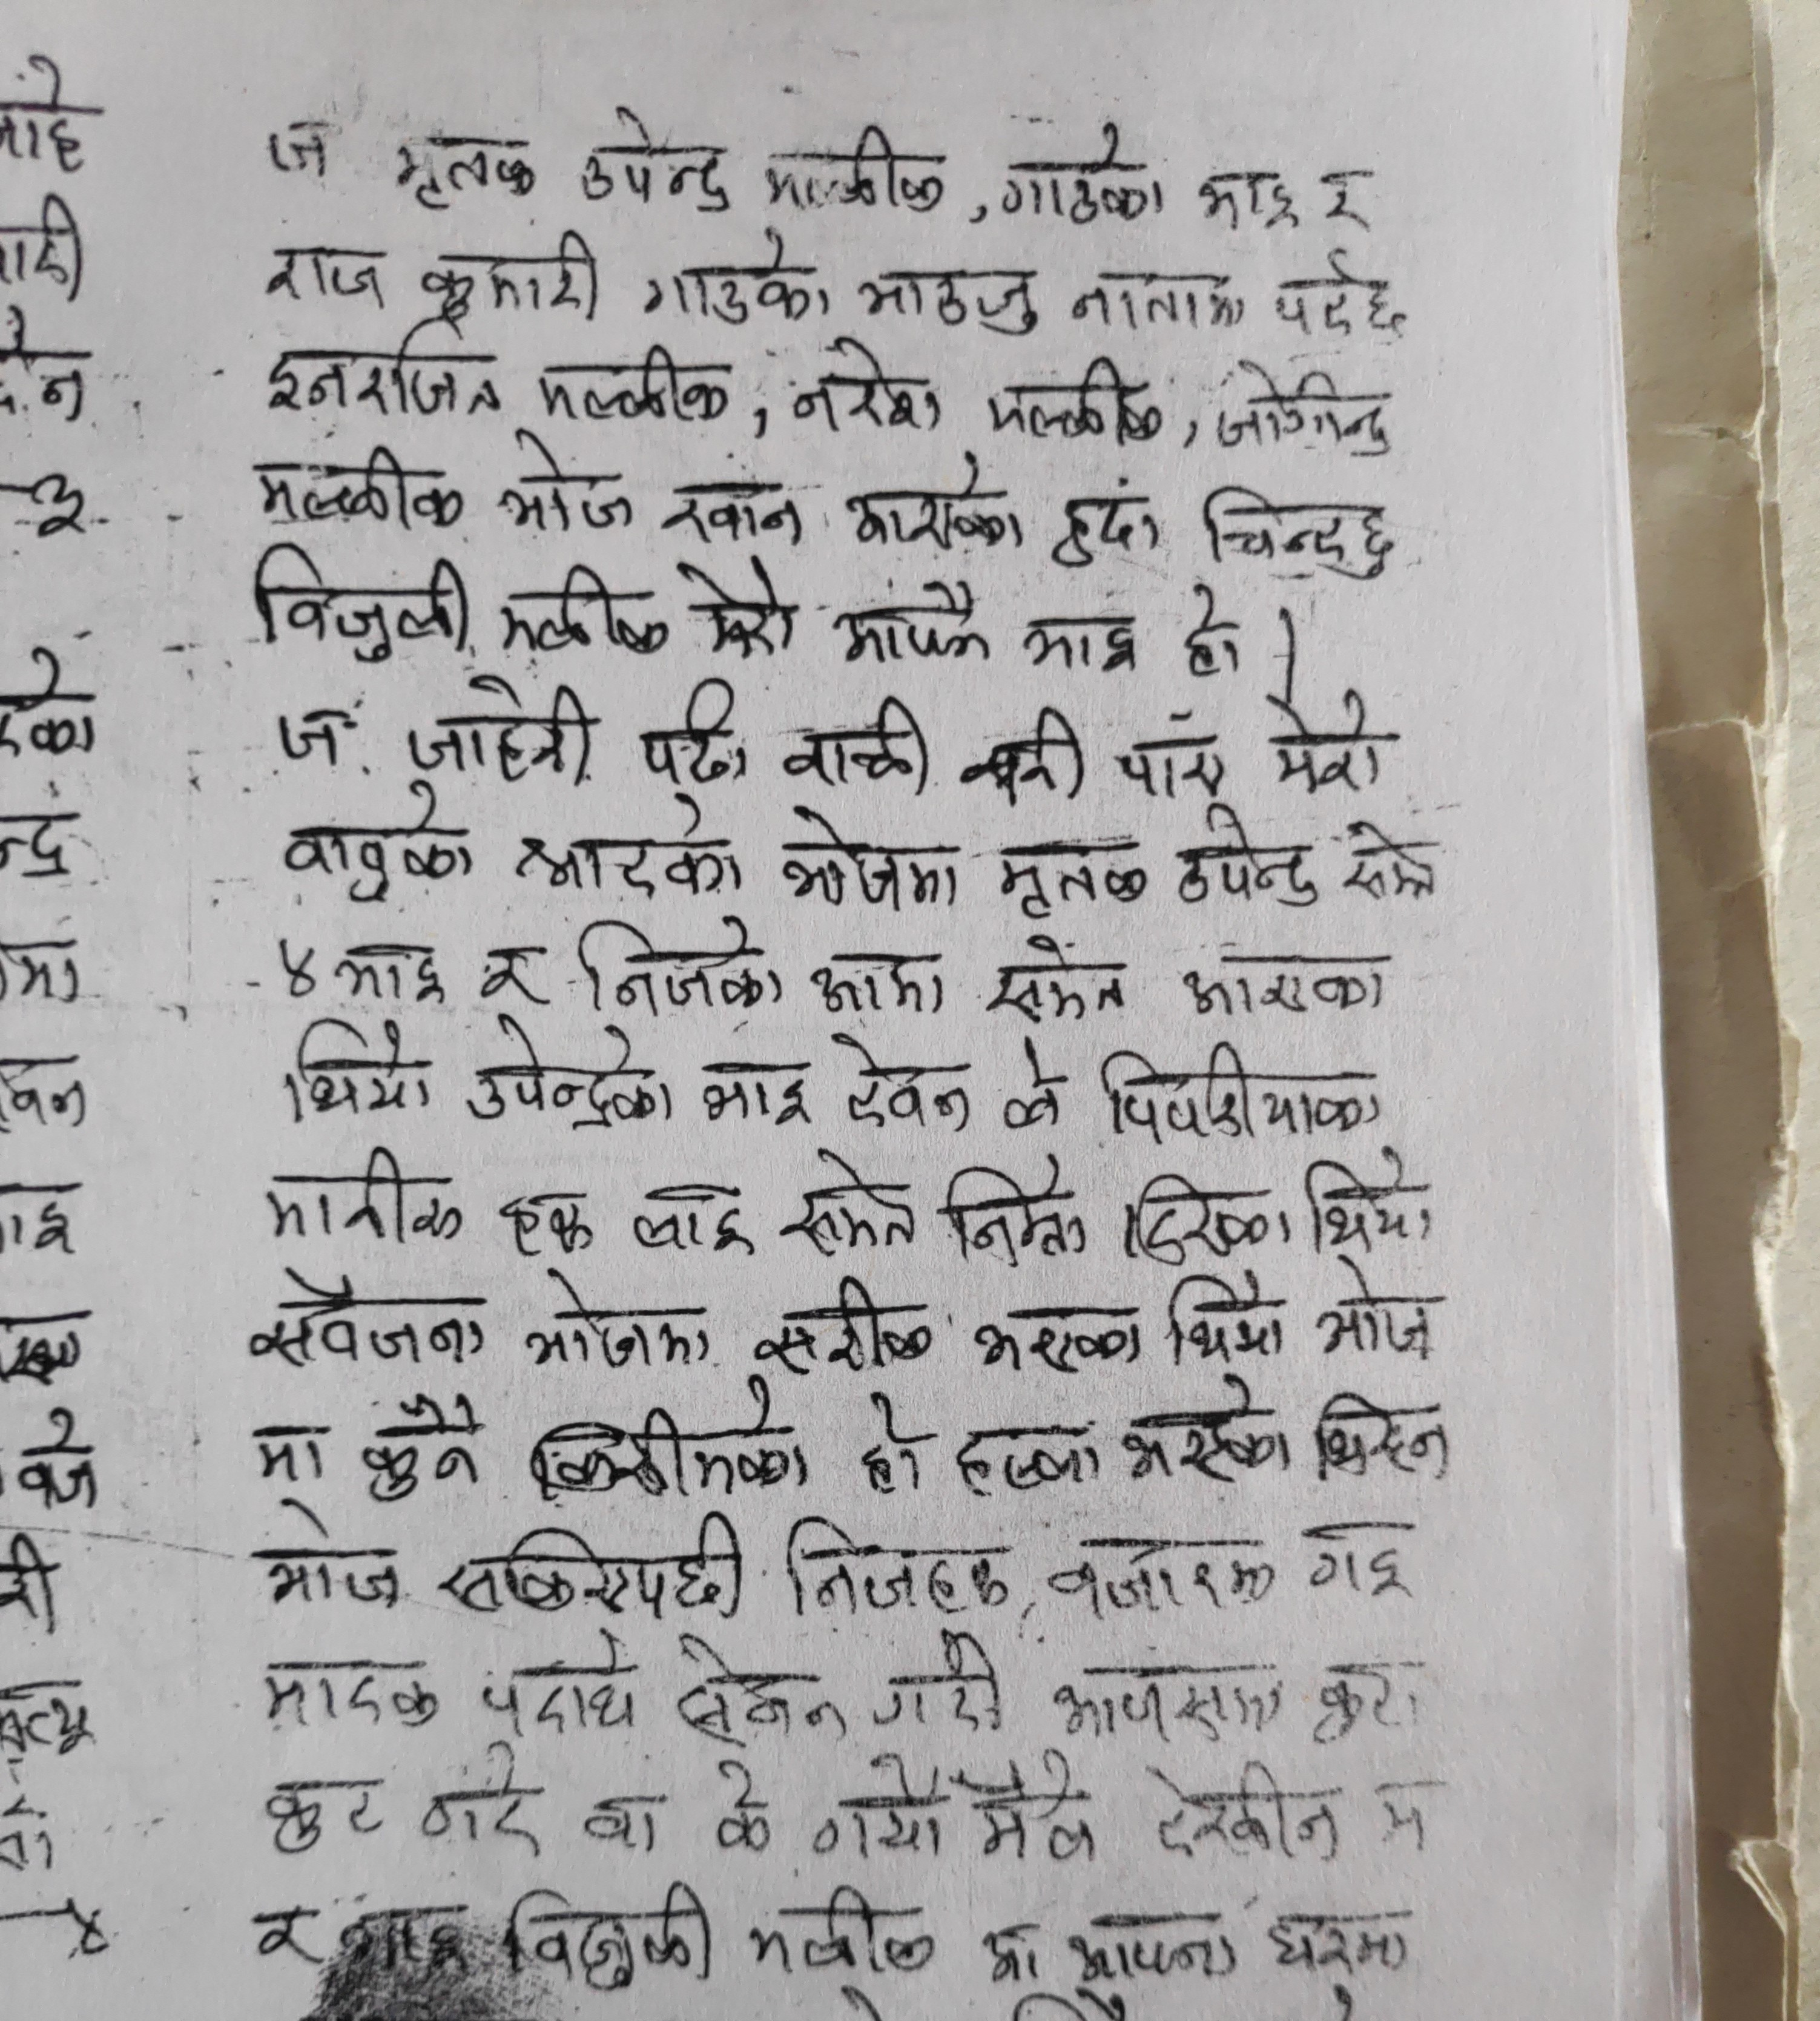text: (434, 1515, 754, 1620), (1087, 1044, 1391, 1146), (249, 538, 471, 670), (502, 1872, 720, 1996), (246, 1267, 494, 1373), (769, 1510, 1017, 1615), (559, 903, 787, 1016), (516, 798, 748, 909), (766, 789, 963, 919), (460, 1023, 682, 1137), (1137, 1754, 1346, 1873), (264, 327, 502, 425), (278, 789, 476, 907), (404, 670, 601, 782), (522, 1267, 711, 1381), (1052, 1655, 1289, 1743), (833, 453, 1033, 555), (668, 1631, 845, 1745), (1198, 485, 1400, 585), (573, 105, 743, 223), (1000, 123, 1174, 237), (745, 1276, 942, 1376), (260, 1149, 464, 1246), (1212, 357, 1398, 460), (1042, 1536, 1275, 1619), (249, 445, 469, 532), (1119, 1378, 1295, 1487), (638, 235, 843, 327), (531, 343, 736, 434), (745, 1887, 942, 1982), (762, 123, 957, 218), (480, 1620, 636, 1735), (494, 562, 669, 663), (242, 1501, 406, 1608), (1109, 1170, 1296, 1264), (945, 1151, 1093, 1269), (775, 1153, 926, 1267), (416, 1738, 560, 1858), (1179, 944, 1400, 1021), (265, 1019, 434, 1119), (984, 353, 1163, 446), (824, 576, 1000, 671), (854, 258, 1049, 343), (831, 1023, 977, 1134), (778, 696, 942, 794), (979, 928, 1140, 1026), (805, 1754, 950, 1863), (1061, 1901, 1240, 1989), (425, 234, 603, 322), (792, 343, 950, 441), (963, 1761, 1103, 1872), (975, 1293, 1147, 1381), (861, 1634, 1007, 1736), (1260, 691, 1397, 798), (1309, 1385, 1453, 1487), (249, 1654, 443, 1729), (494, 441, 639, 540), (1158, 1267, 1295, 1371), (1174, 814, 1323, 909), (673, 552, 803, 661), (358, 1397, 490, 1503), (1293, 1153, 1430, 1253), (1314, 1253, 1434, 1367), (956, 1415, 1105, 1506), (956, 703, 1089, 803), (638, 673, 754, 787), (1272, 246, 1412, 339), (1072, 262, 1256, 332), (394, 135, 546, 220), (991, 845, 1149, 921), (808, 945, 961, 1021), (1267, 1912, 1418, 1988), (648, 473, 803, 545), (1311, 1661, 1432, 1752), (1049, 476, 1163, 573), (625, 1179, 761, 1260), (1300, 1518, 1432, 1599), (690, 1053, 819, 1132), (255, 244, 394, 316), (1337, 817, 1446, 909), (264, 1773, 385, 1854), (1112, 715, 1228, 798), (1019, 608, 1147, 682), (492, 1186, 603, 1264), (847, 1390, 928, 1496), (989, 1042, 1075, 1137), (1196, 167, 1311, 237), (327, 940, 448, 1005), (710, 1761, 782, 1858), (469, 940, 560, 1016), (1361, 1771, 1439, 1858), (239, 1903, 325, 1979), (264, 701, 357, 770), (1179, 592, 1249, 682), (246, 1415, 334, 1485), (573, 1787, 669, 1847), (260, 114, 343, 181), (975, 1916, 1047, 1986), (272, 926, 327, 1000)
